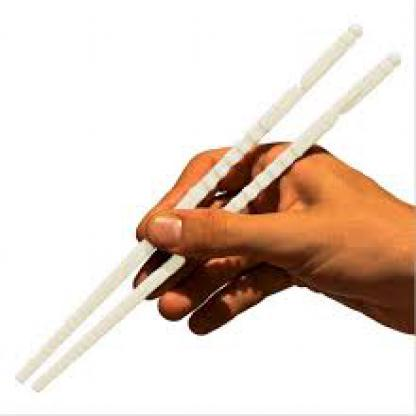chopstick: (30, 53, 403, 394), (13, 26, 365, 385)
